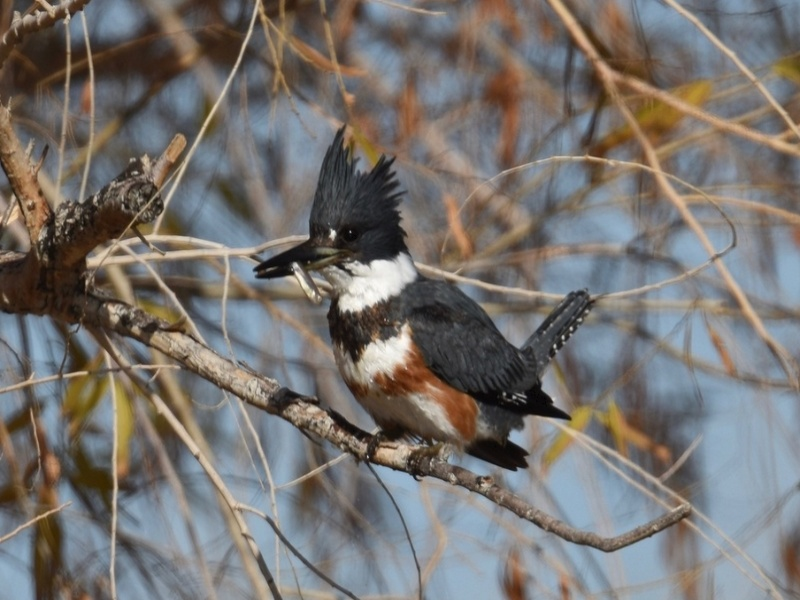kingfisher: (252, 120, 598, 477)
